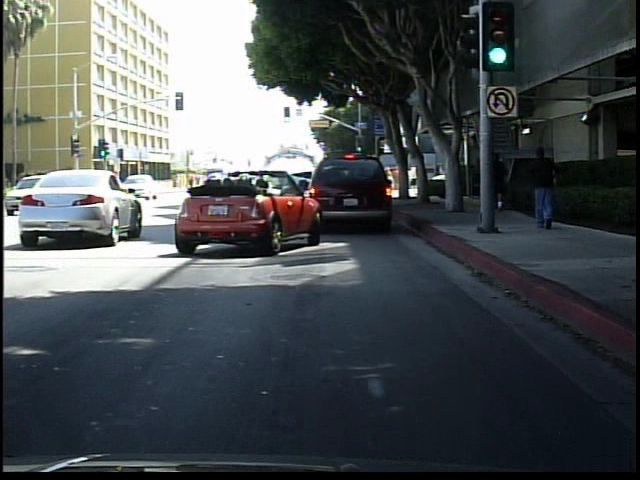person: (527, 140, 560, 232), (492, 147, 510, 215)
